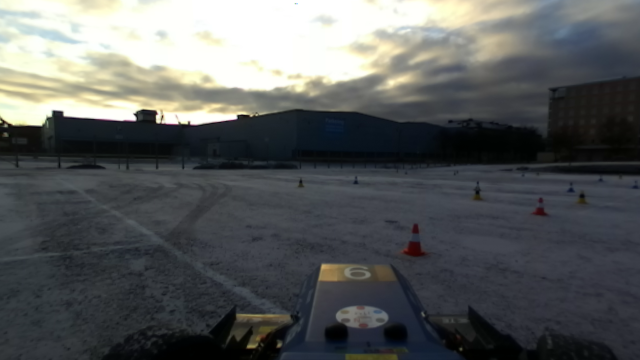blue: (351, 174, 360, 185)
orange: (401, 222, 427, 258), (529, 195, 552, 219)
yellow: (575, 189, 589, 206), (295, 176, 305, 190), (472, 189, 481, 200)
